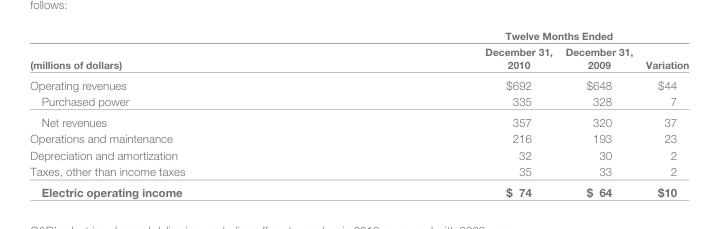table: (29, 28, 688, 198)
table column: (29, 28, 334, 198), (334, 28, 558, 198), (558, 28, 638, 198), (638, 28, 688, 198)
table column header: (29, 28, 688, 73)
table row: (29, 43, 688, 73), (29, 73, 688, 92), (29, 92, 688, 111), (29, 162, 688, 181), (29, 111, 688, 129), (29, 129, 688, 146), (29, 181, 688, 198), (29, 146, 688, 162), (29, 28, 688, 43)
table spanning cell: (29, 28, 334, 73), (334, 28, 638, 43), (638, 28, 688, 73)
